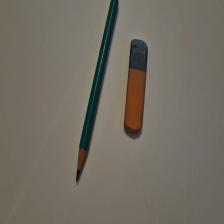eraser: (125, 39, 149, 134)
pencil: (77, 1, 120, 183)
